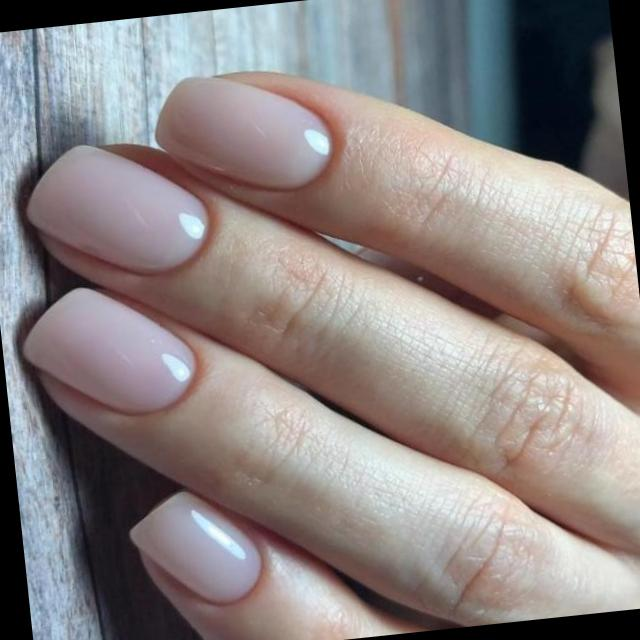Nail: (27, 145, 207, 275), (22, 288, 195, 413), (157, 77, 331, 189), (130, 492, 260, 603)
